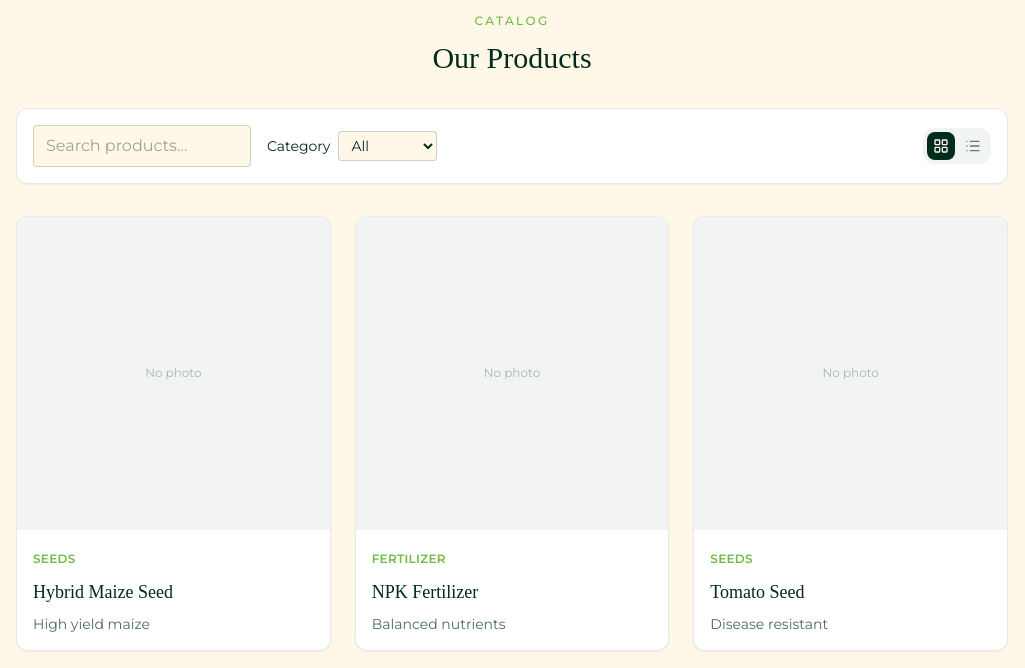
Scenario: ProductGrid › filters by search text
Type "maize" into the field with placeholder "Search products…" at (142, 146), box [33,125,251,167]
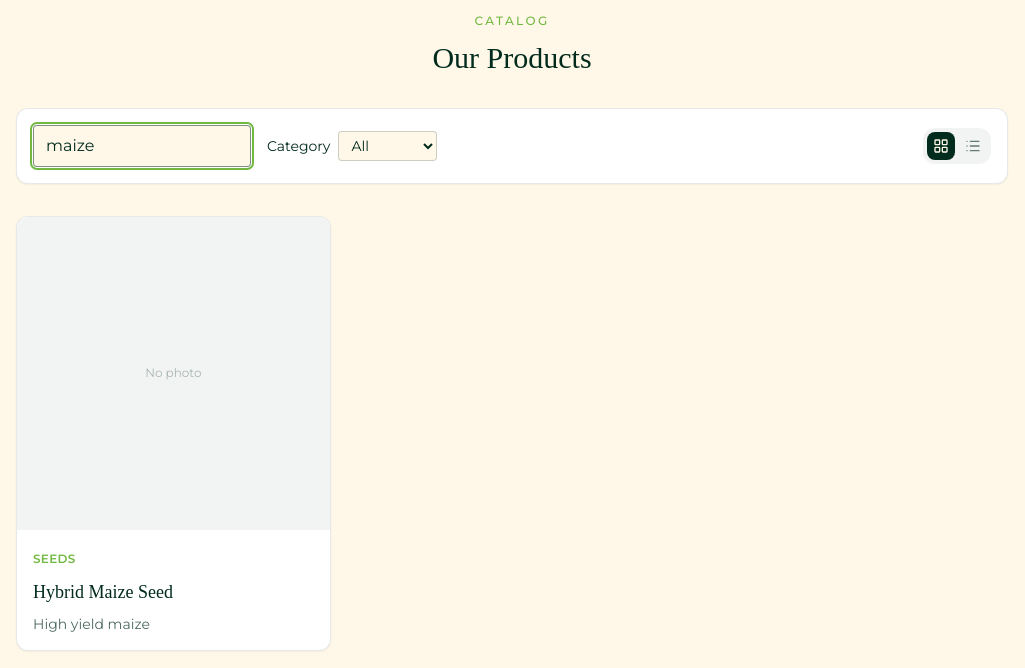
Expected: the heading "Hybrid Maize Seed" is shown, [33,582,173,602]
Expected: the link "NPK Fertilizer" is gone
